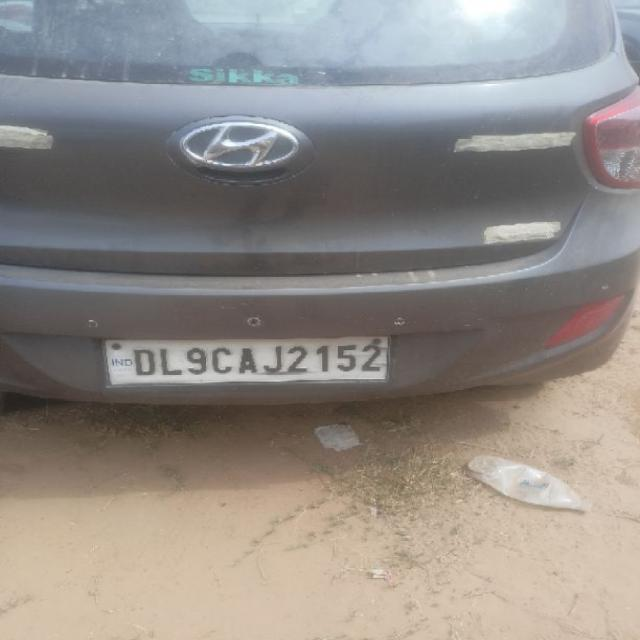license_plate: (101, 334, 391, 388)
